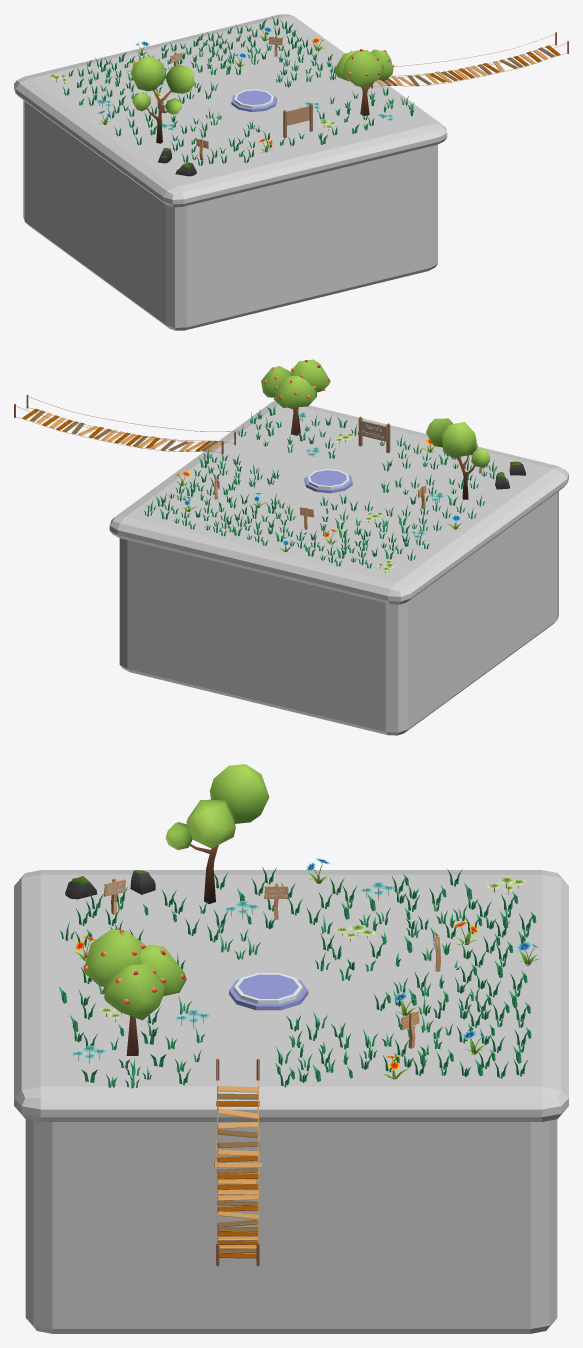
Rendered from spawn island.glb.
The picture shows the model from 3 angles, top to bottom: view 1: azimuth 30°, elevation 25°; view 2: azimuth 150°, elevation 25°; view 3: azimuth 270°, elevation 25°; orthographic projection. The views are drawn at different scales.
Parts seen in each view (by area): view 1: Spawn island, TreeR2_GRADIENT_0.001, TreeRF_GRADIENT_0.001, spawn platform; view 2: Spawn island, TreeRF_GRADIENT_0.001, TreeR2_GRADIENT_0.001, spawn platform; view 3: Spawn island, TreeRF_GRADIENT_0.001, TreeR2_GRADIENT_0.001, spawn platform.
Boxes of the visible parts, x1,y1,x2,y2 form: Spawn island: [14, 14, 447, 330]; TreeR2_GRADIENT_0.001: [130, 56, 194, 143]; TreeRF_GRADIENT_0.001: [334, 49, 394, 115]; spawn platform: [231, 89, 276, 111]; Spawn island: [109, 401, 568, 735]; TreeRF_GRADIENT_0.001: [261, 359, 330, 435]; TreeR2_GRADIENT_0.001: [426, 418, 490, 499]; spawn platform: [304, 469, 352, 493]; Spawn island: [14, 870, 568, 1333]; TreeRF_GRADIENT_0.001: [83, 928, 186, 1055]; TreeR2_GRADIENT_0.001: [165, 764, 269, 903]; spawn platform: [229, 973, 308, 1010].
Size of the model in its own units: 76.74 by 35.77 by 47.37.
Materials: 14 (1 with a texture image).
